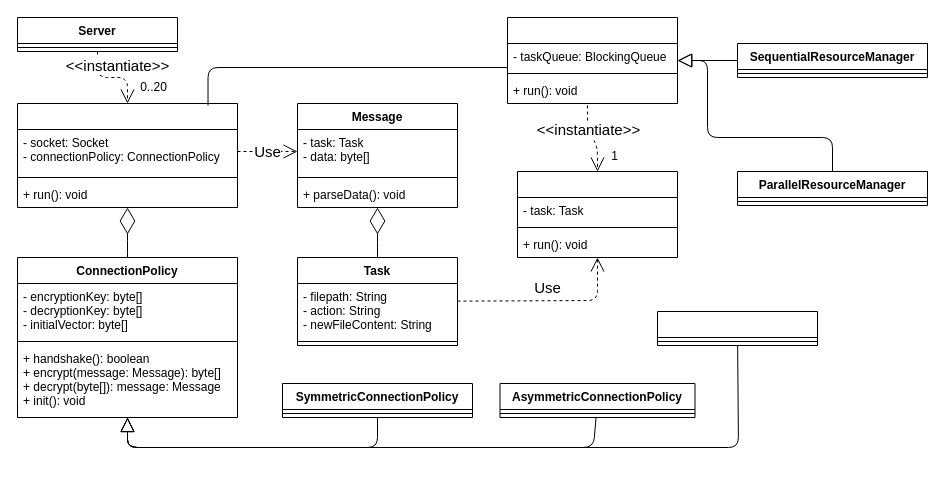
Some shapes in this 945 by 479 pixel diagram are drawn without their labels. The box of each missing label's shape, as (x1, y1, x2, y2) in pixels:
ConnectionHandler: (16, 102, 238, 208)
HybridConnectionPolicy: (656, 310, 818, 346)
ResourceManager: (506, 16, 678, 104)
TaskExecutor: (516, 170, 678, 258)
